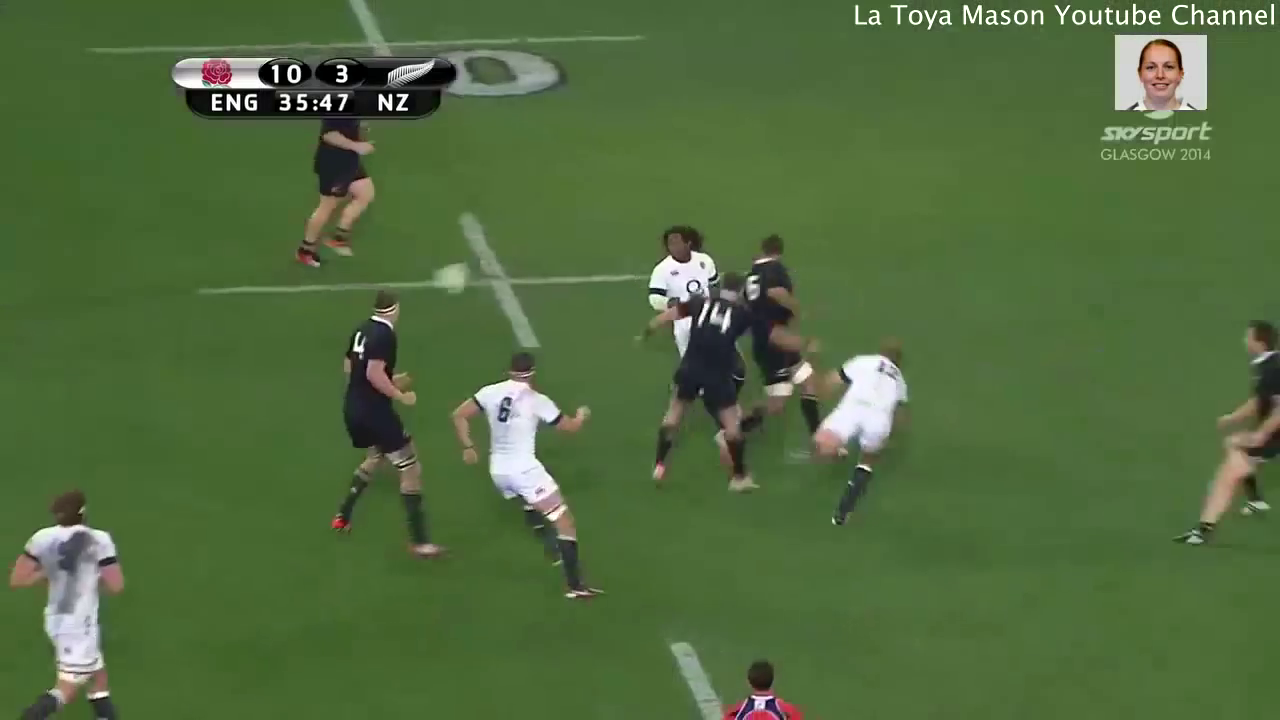10_metre: (189, 199, 673, 361), (80, 1, 652, 123)
ball: (422, 247, 477, 321)
player: (444, 349, 626, 603), (327, 283, 446, 561), (1, 481, 133, 720), (1164, 310, 1280, 549), (789, 336, 933, 528), (651, 261, 752, 503), (728, 224, 832, 420), (299, 121, 380, 273), (633, 212, 707, 329), (695, 655, 820, 720)
